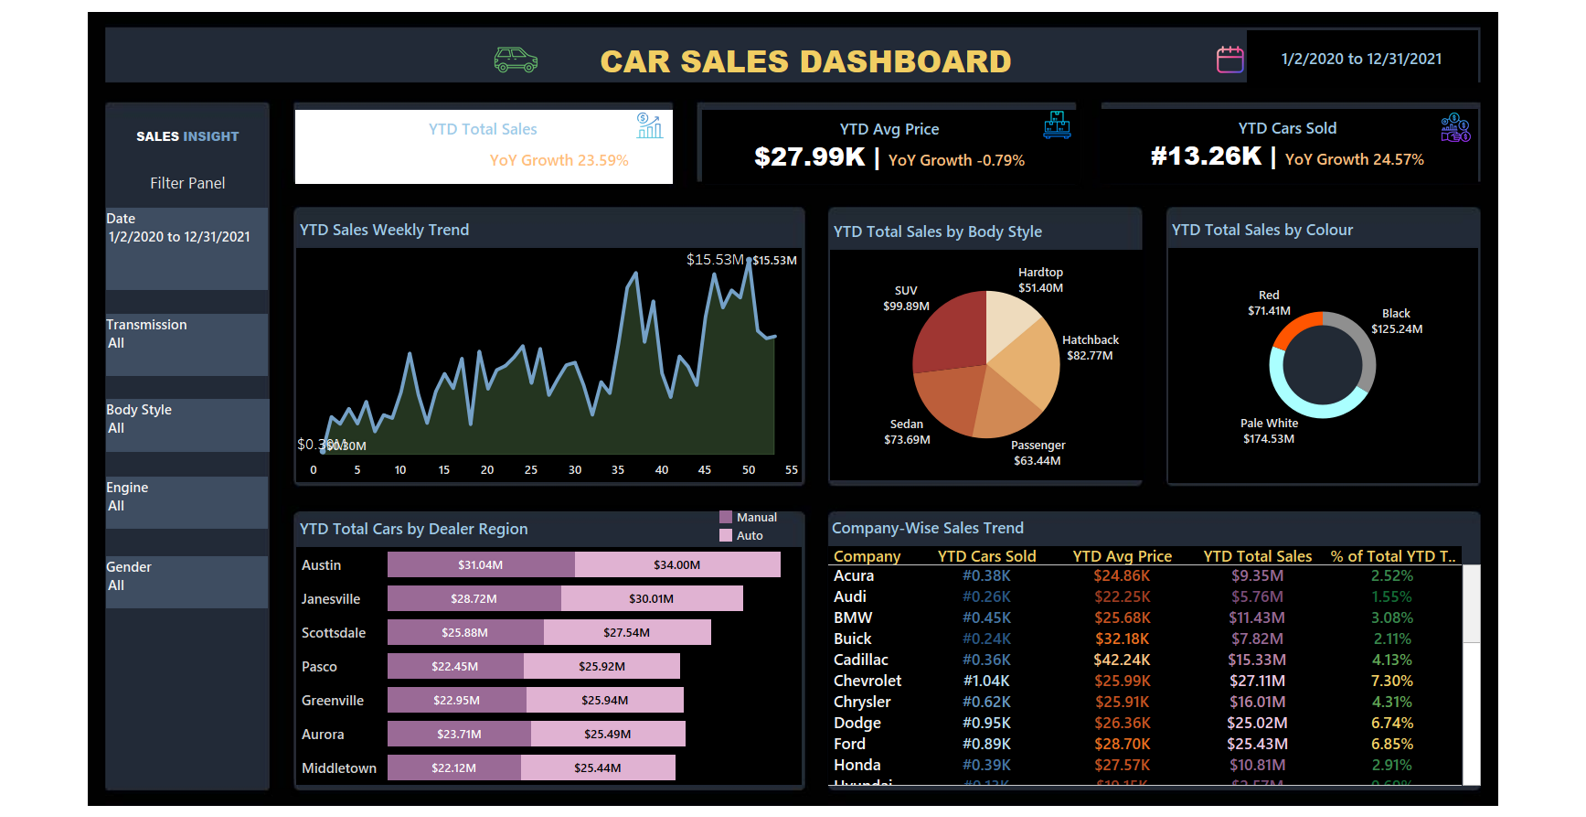

The dashboard page shown, as its layout file describes it:
{"tool":"tableau","page":{"name":"Car Sales Dashboard","canvas":[1735,892],"ordinal":0},"visuals":[{"type":"image","param":"Image/Car Sales.jpg","box":[8,8,1719,876]},{"type":"worksheet","title":"Date Range","mark":"Automatic","box":[1363.5,31.6,252.2,61.8]},{"type":"image","param":"Image/Car Icon.png","box":[527.3,36.2,73.6,55.8]},{"type":"text","box":[485.2,40.7,793.1,49.7]},{"type":"image","param":"Image/calendar.png","box":[1323.8,46.7,42.8,33.1]},{"type":"worksheet","title":"YTD Cars Sold","mark":"Automatic","box":[1203,117.5,412.7,79.9]},{"type":"worksheet","title":"YTD Total Sales","mark":"Automatic","box":[322.5,119,412.7,79.9]},{"type":"image","param":"Image/Sales Icon.png","box":[689.5,119,43.6,33.1]},{"type":"worksheet","title":"YTD Avg Price","mark":"Automatic","box":[767.6,119,411.6,79.9]},{"type":"image","param":"Image/Avg Price Icon.png","box":[1134.1,119,45.1,31.6]},{"type":"image","param":"Image/Cars Sold Icon.png","box":[1571.4,120.5,42.8,33.1]},{"type":"text","box":[117.7,126.6,175.8,42.2]},{"type":"text","box":[116.2,182.3,178.8,33.1]},{"type":"filter","title":"YTD Sales Weekly Trend","param":"[federated.197n9p205p659k123pd5j11xhxzd].[none:Date:qk]","box":[116.2,226,177.3,90.4]},{"type":"worksheet","title":"YTD Sales Weekly Trend","mark":"Area","rows":["Calculation_1057501489701400577","Calculation_1057501489701400577"],"cols":["Date"],"box":[324.1,232,551.8,293.8]},{"type":"worksheet","title":"YTD Total Sales by Colour","mark":"Pie","rows":["Calculation_906349427899387905","Calculation_906349427899473923"],"box":[1277.9,232,337.8,293.8]},{"type":"worksheet","title":"YTD Total Sales by Body Style","mark":"Pie","box":[908,233.5,342.4,289.3]},{"type":"filter","title":"YTD Sales Weekly Trend","param":"[federated.197n9p205p659k123pd5j11xhxzd].[none:Transmission:nk]","box":[116.2,342,177.3,67.8]},{"type":"filter","title":"YTD Sales Weekly Trend","param":"[federated.197n9p205p659k123pd5j11xhxzd].[none:Body Style:nk]","box":[116.2,435.5,178.8,57.3]},{"type":"filter","title":"YTD Sales Weekly Trend","param":"[federated.197n9p205p659k123pd5j11xhxzd].[none:Engine:nk]","box":[116.2,519.8,177.3,57.3]},{"type":"legend","title":"YTD Total Cars by Dealer Region","param":"[federated.197n9p205p659k123pd5j11xhxzd].[none:Transmission:nk]","box":[784.1,554.5,108.2,60.3]},{"type":"worksheet","title":"Company-Wise Sales Trend","mark":"Automatic","rows":["Company"],"box":[906.5,557.5,713.9,299.8]},{"type":"worksheet","title":"YTD Total Cars by Dealer Region","mark":"Automatic","rows":["Dealer_Region"],"cols":["Calculation_1057501489701400577"],"box":[324.1,559,551.8,296.8]},{"type":"filter","title":"YTD Sales Weekly Trend","param":"[federated.197n9p205p659k123pd5j11xhxzd].[none:Gender:nk]","box":[116.2,607.2,177.3,57.3]}]}

Visuals, with their boxes in screenshot pixels (x1, y1, x2, y2), scaled from the page's 1735x892 canvas onto the 1586x817 screenshot:
image: 7, 7, 1579, 810
"Date Range" worksheet: 1246, 29, 1477, 86
image: 482, 33, 549, 84
text: 444, 37, 1169, 83
image: 1210, 43, 1249, 73
"YTD Cars Sold" worksheet: 1100, 108, 1477, 181
"YTD Total Sales" worksheet: 295, 109, 672, 182
image: 630, 109, 670, 139
"YTD Avg Price" worksheet: 702, 109, 1078, 182
image: 1037, 109, 1078, 138
image: 1436, 110, 1476, 141
text: 108, 116, 268, 155
text: 106, 167, 270, 197
"YTD Sales Weekly Trend" filter: 106, 207, 268, 290
"YTD Sales Weekly Trend" worksheet (Area marks): 296, 212, 801, 482
"YTD Total Sales by Colour" worksheet (Pie marks): 1168, 212, 1477, 482
"YTD Total Sales by Body Style" worksheet (Pie marks): 830, 214, 1143, 479
"YTD Sales Weekly Trend" filter: 106, 313, 268, 375
"YTD Sales Weekly Trend" filter: 106, 399, 270, 451
"YTD Sales Weekly Trend" filter: 106, 476, 268, 529
"YTD Total Cars by Dealer Region" legend: 717, 508, 816, 563
"Company-Wise Sales Trend" worksheet: 829, 511, 1481, 785
"YTD Total Cars by Dealer Region" worksheet: 296, 512, 801, 784
"YTD Sales Weekly Trend" filter: 106, 556, 268, 609
